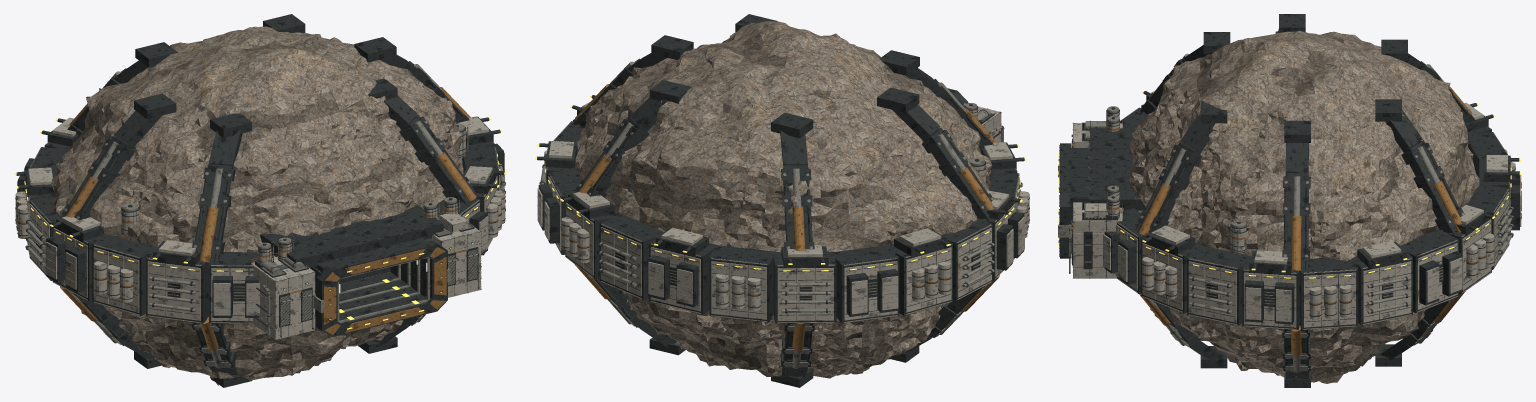
3 renders of one model, left to right at view 1: azimuth 30°, elevation 25°; view 2: azimuth 150°, elevation 25°; view 3: azimuth 270°, elevation 25°, orthographic. The views are drawn at different scales.
Parts seen in each view (by area): view 1: quarried-asteroid, static/dark-structure, static/machined-alloy, static/cladding-dark-structure, static/pale-steel-1, static/pale-steel-2, static/service-ochre, static/pale-steel-0, static/cladding-service-ochre, static/cladding-pale-steel-0, static/cladding-pale-steel-2, static/cladding-pale-steel-1 (+1 smaller); view 2: quarried-asteroid, static/dark-structure, static/pale-steel-1, static/pale-steel-2, static/machined-alloy, static/pale-steel-0, static/service-ochre, static/amber-lamp; view 3: quarried-asteroid, static/dark-structure, static/pale-steel-1, static/pale-steel-2, static/machined-alloy, static/cladding-dark-structure, static/pale-steel-0, static/service-ochre, static/cladding-pale-steel-0, static/cladding-pale-steel-1, static/cladding-pale-steel-2, static/amber-lamp.
Part boxes in pixels (x1,y1,x2,y2): quarried-asteroid: (51, 26, 463, 385); static/dark-structure: (15, 14, 505, 387); static/machined-alloy: (25, 64, 505, 368); static/cladding-dark-structure: (255, 205, 443, 334); static/pale-steel-1: (15, 117, 505, 320); static/pale-steel-2: (17, 116, 504, 321); static/service-ochre: (15, 87, 505, 350); static/pale-steel-0: (26, 166, 499, 321); static/cladding-service-ochre: (323, 247, 446, 334); static/cladding-pale-steel-0: (251, 230, 480, 339); static/cladding-pale-steel-2: (258, 217, 467, 339); static/cladding-pale-steel-1: (259, 213, 480, 333); quarried-asteroid: (575, 21, 992, 378); static/dark-structure: (537, 14, 1029, 387); static/pale-steel-1: (544, 109, 1029, 320); static/pale-steel-2: (537, 102, 1024, 320); static/machined-alloy: (537, 61, 1024, 368); static/pale-steel-0: (556, 185, 1018, 320); static/service-ochre: (561, 84, 1029, 350); static/amber-lamp: (535, 95, 1026, 271); quarried-asteroid: (1128, 30, 1479, 383); static/dark-structure: (1058, 14, 1519, 387); static/pale-steel-1: (1106, 91, 1515, 325); static/pale-steel-2: (1103, 155, 1521, 327); static/machined-alloy: (1058, 53, 1521, 372); static/cladding-dark-structure: (1071, 128, 1145, 253); static/pale-steel-0: (1128, 205, 1499, 327); static/service-ochre: (1071, 81, 1494, 356); static/cladding-pale-steel-0: (1073, 123, 1122, 278); static/cladding-pale-steel-1: (1073, 130, 1121, 278); static/cladding-pale-steel-2: (1073, 123, 1123, 244); static/amber-lamp: (1058, 91, 1520, 278).
Size of the model in its own units: 1498 by 1023 by 1388.
13 materials, 11 textured.
